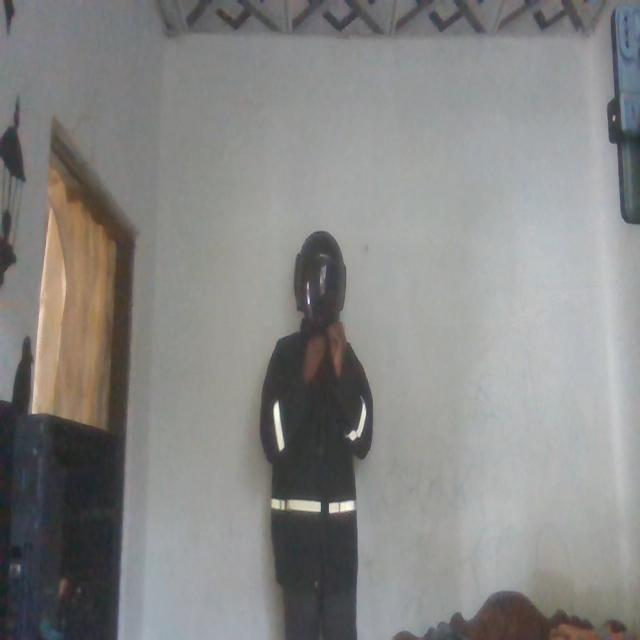Helmet_Wearer: (288, 221, 350, 343)
Jacket_Wearer: (259, 310, 377, 586)
Person: (256, 204, 372, 640)
